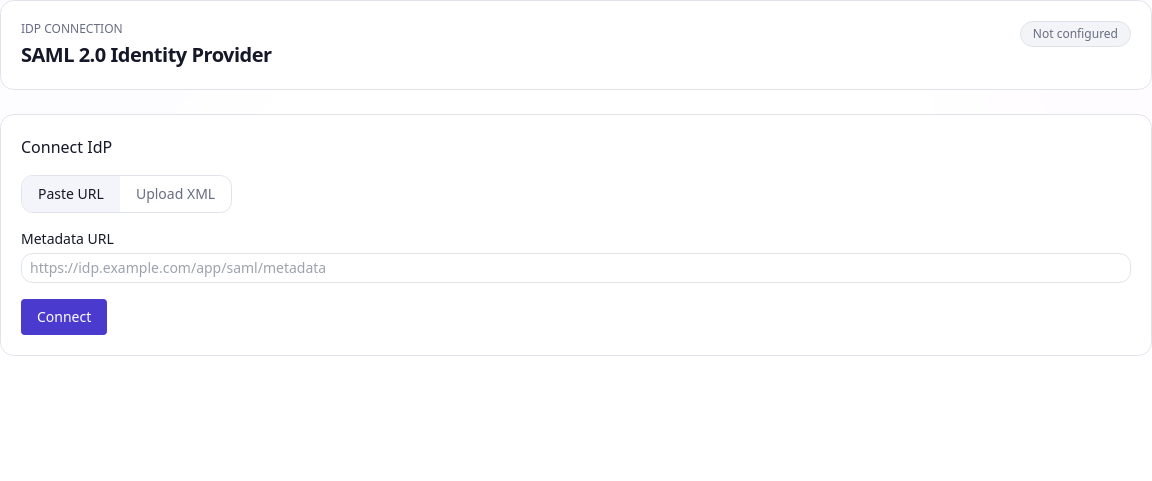
Test: IdpConnectPanel › switches to XML input mode when 'Upload XML' tab is clicked
Click the tab with test id "idp-tab-xml": {"x": 176, "y": 194} [120,176,231,212]
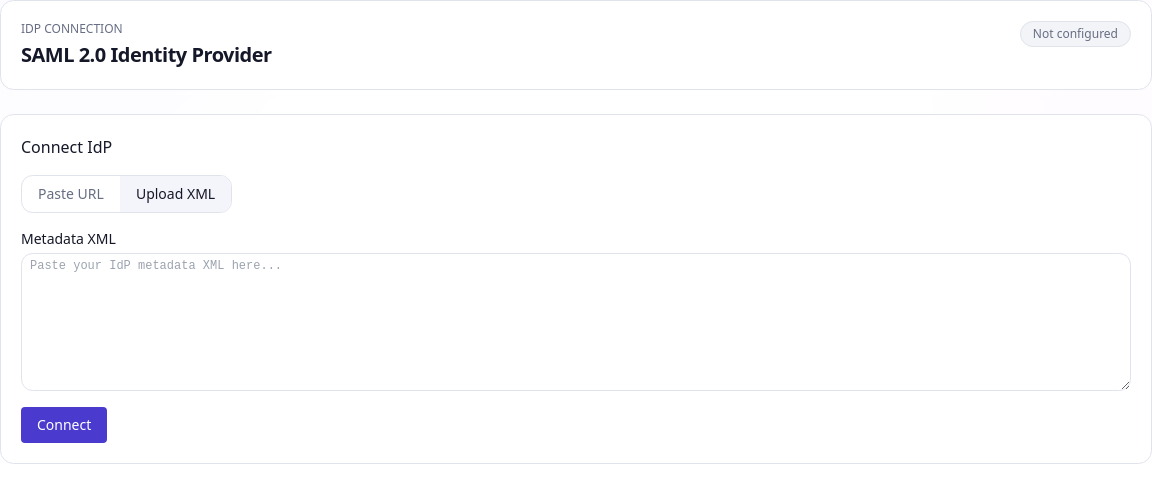
Expected: the text box with test id "idp-metadata-xml-input" is shown, [21,253,1131,391]
Expected: the field with test id "idp-metadata-url-input" is gone
